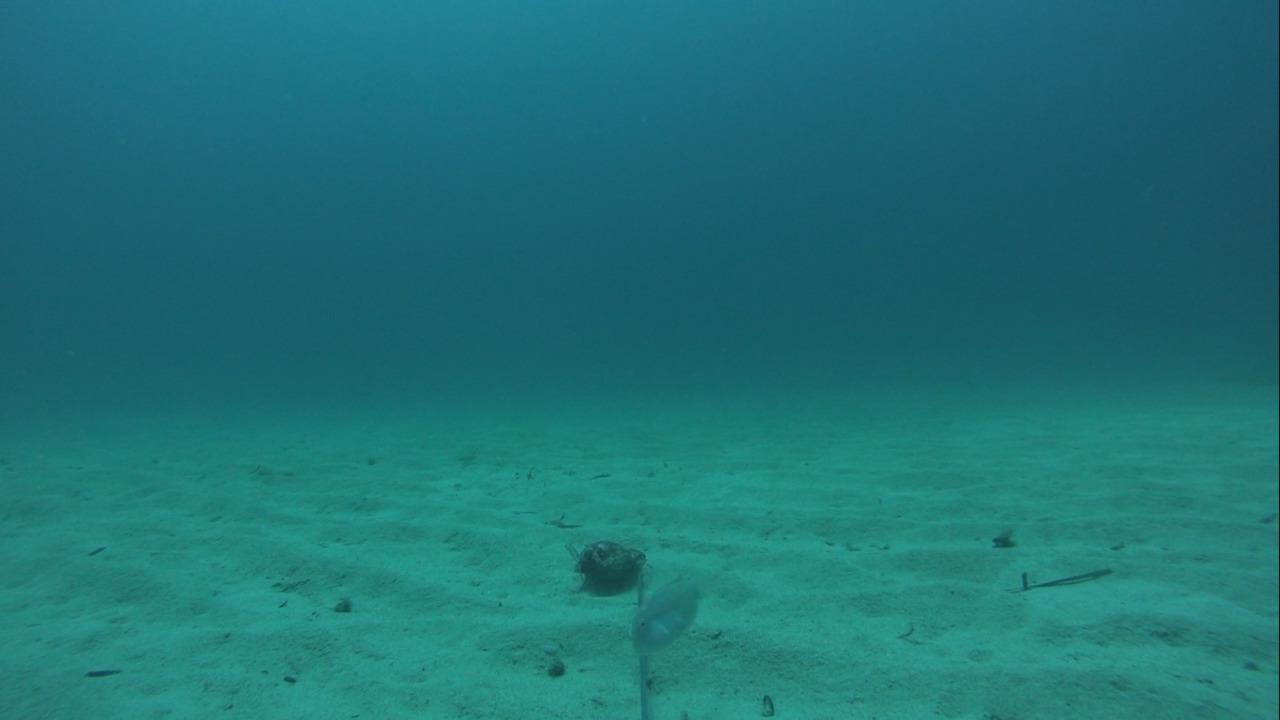raor: (626, 564, 706, 655)
